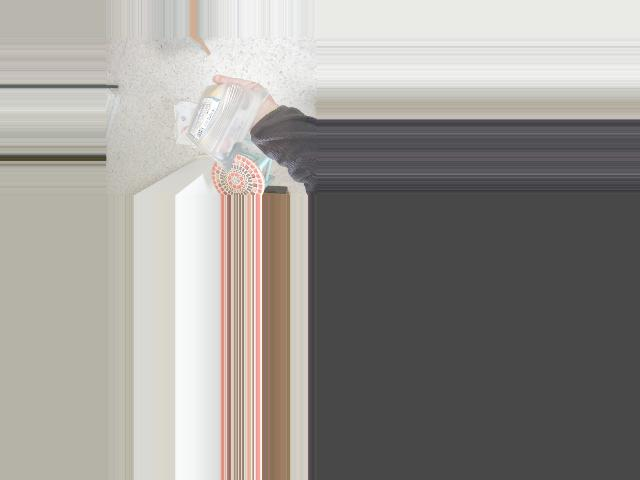cheese: (164, 101, 255, 140)
